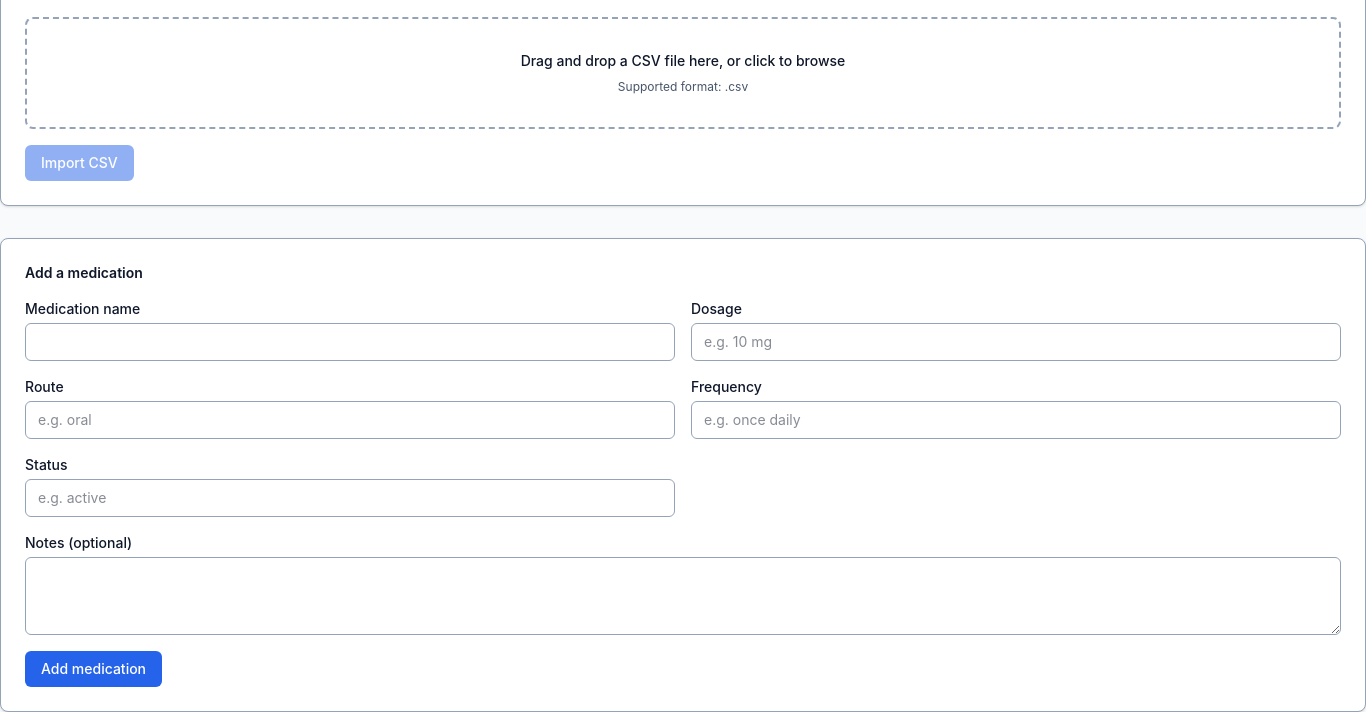
it: PatientMedicationsPage › adds a new medication scoped to the current patient
(page scrolled)
Type "Lisinopril" into the field labelled "Medication name" at (350, 342), box [25, 323, 675, 361]
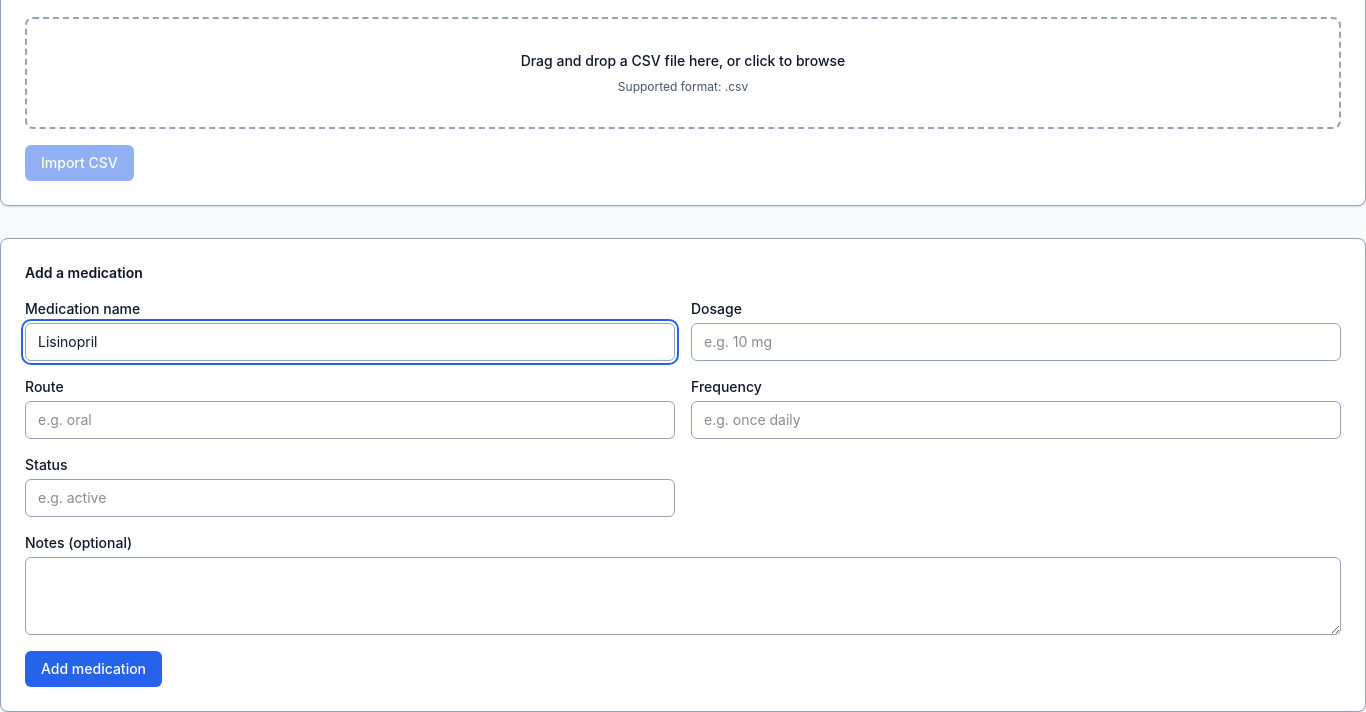
Type "10 mg" into the field labelled "Dosage" at (1016, 342), box [691, 323, 1341, 361]
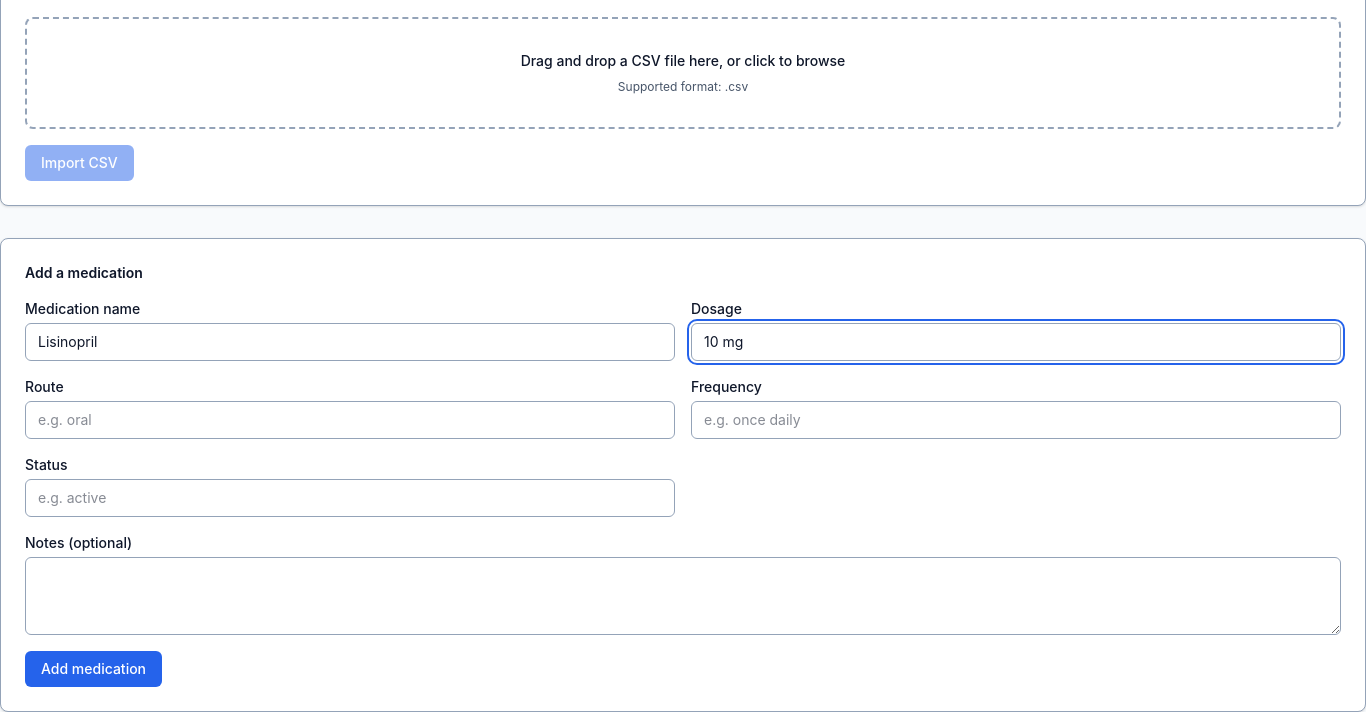
Type "oral" into the field labelled "Route" at (350, 420), box [25, 401, 675, 439]
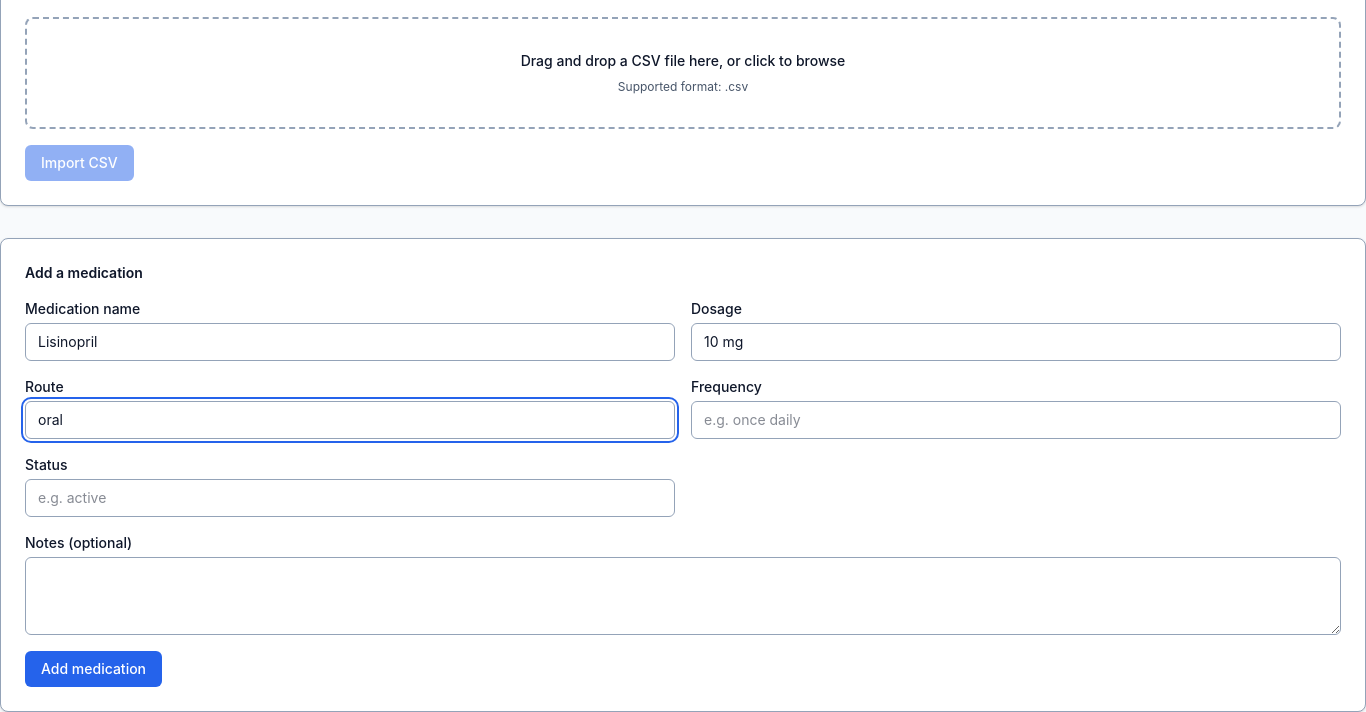
Type "once daily" into the field labelled "Frequency" at (1016, 420), box [691, 401, 1341, 439]
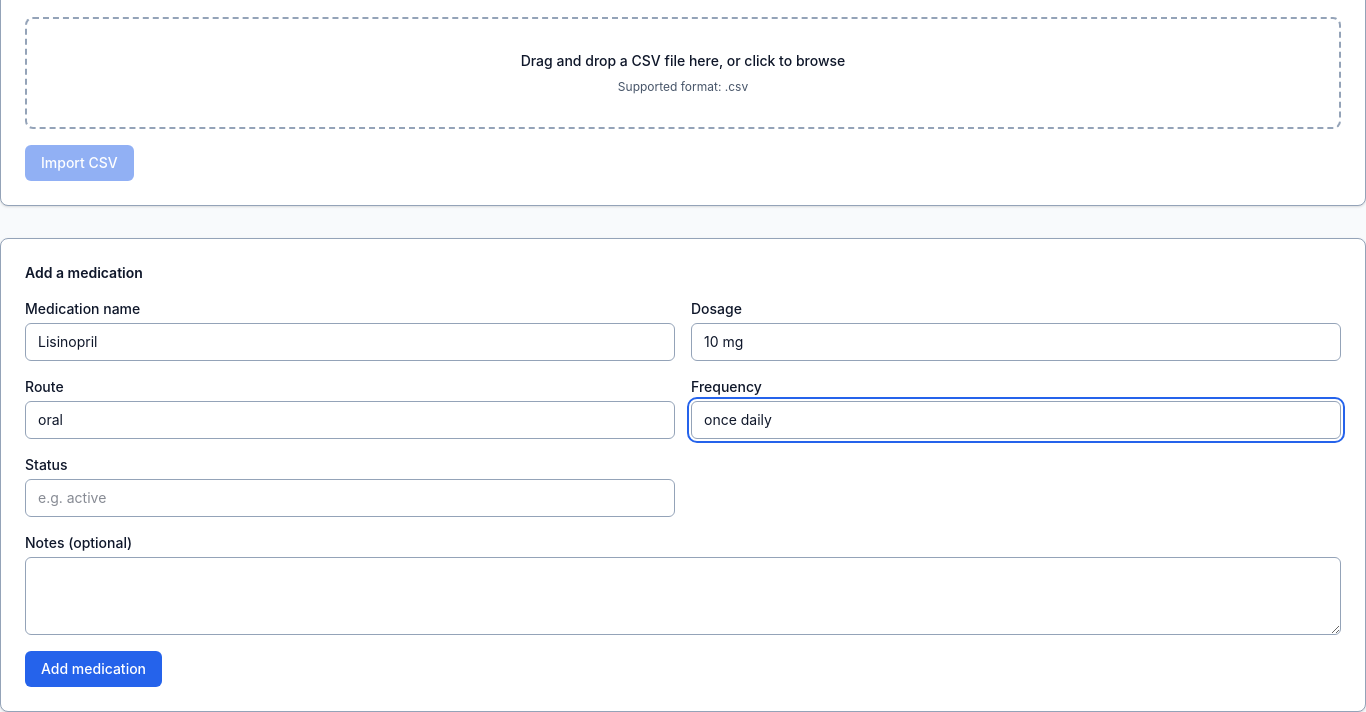
Type "active" into the field labelled "Status" at (350, 498), box [25, 479, 675, 517]
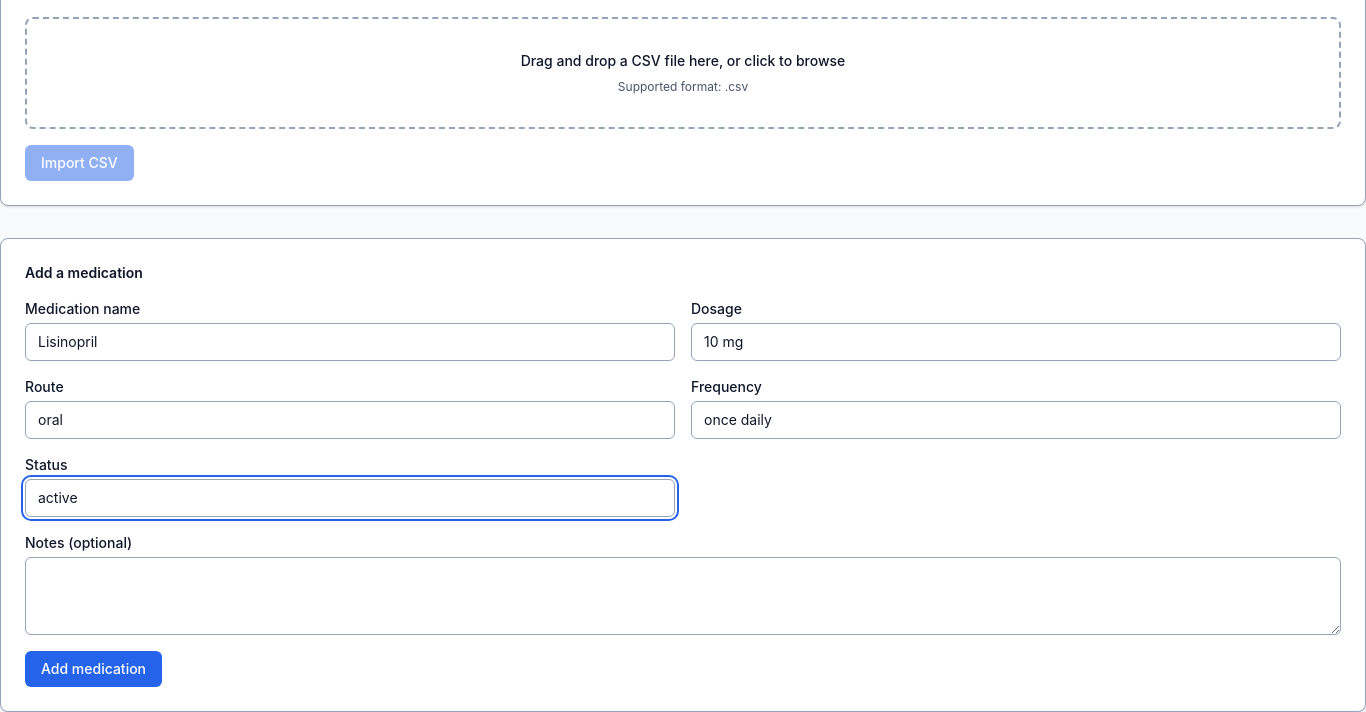
Click the button "Add medication" at (94, 669), box [25, 651, 162, 687]
(page scrolled)
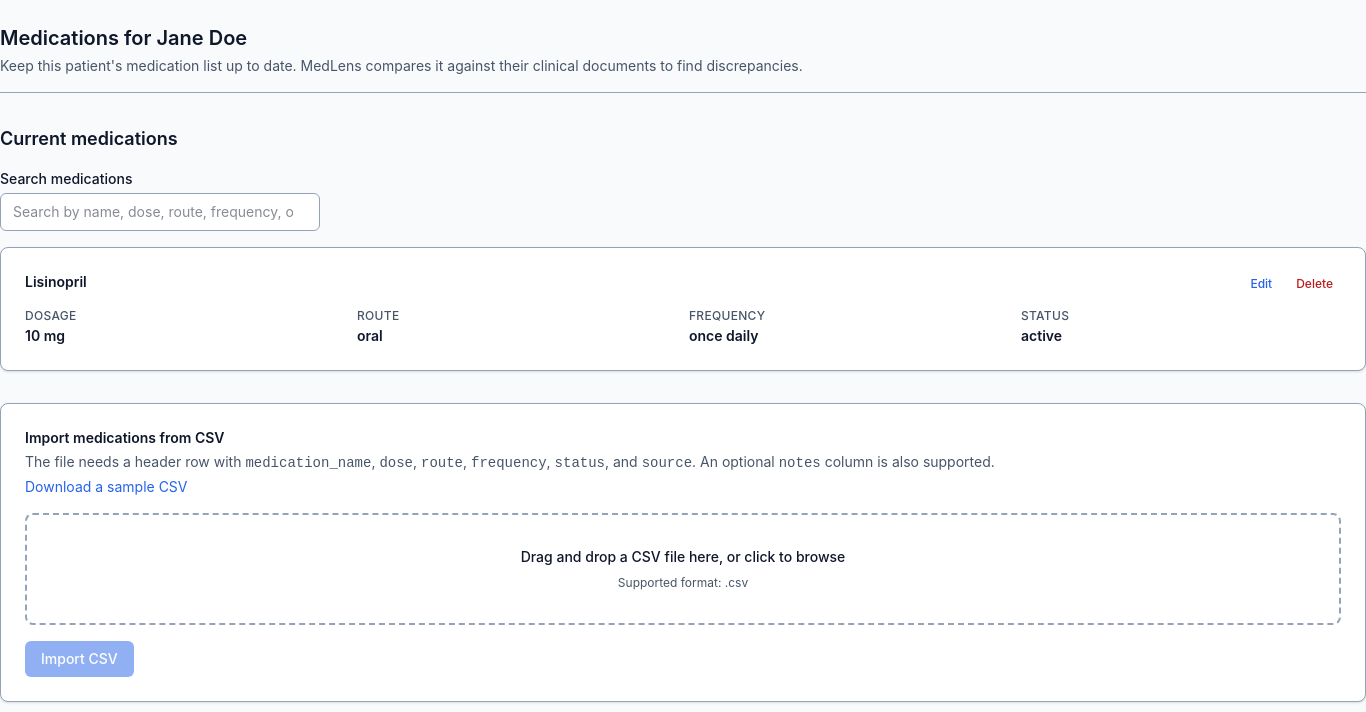
Expected: the heading "Lisinopril" is shown, [25, 272, 87, 292]
